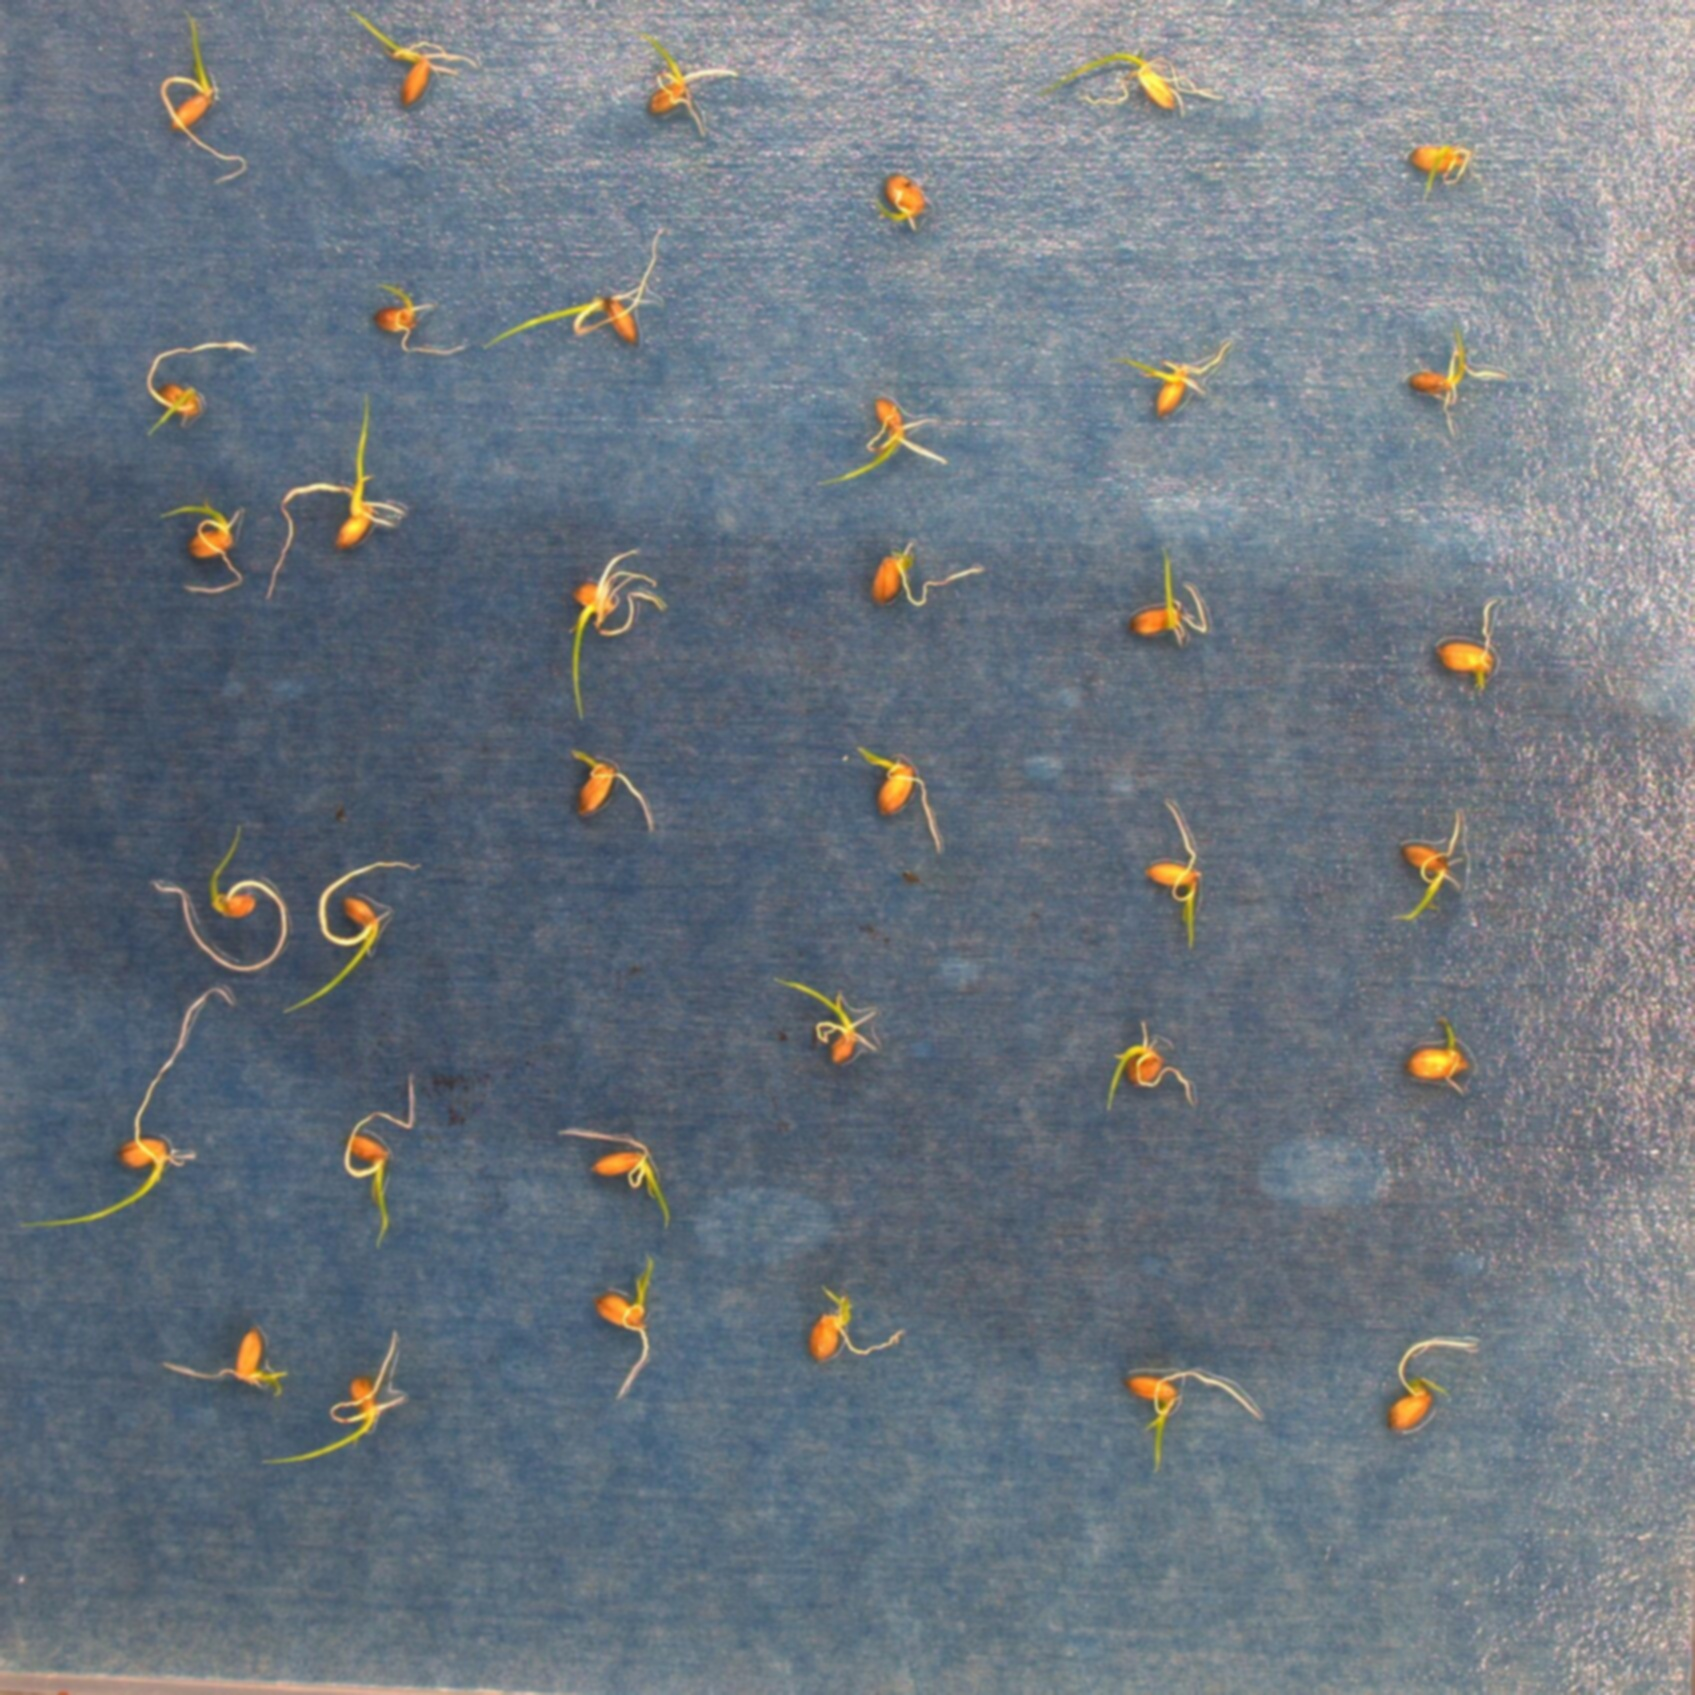not sprout: (874, 534, 983, 608), (1431, 601, 1498, 702)
sprout: (20, 986, 236, 1231), (262, 394, 407, 601), (484, 231, 658, 359), (279, 858, 416, 1018), (149, 826, 289, 976), (255, 1329, 405, 1467), (567, 549, 671, 723), (147, 20, 247, 189), (1038, 50, 1229, 129), (1119, 1367, 1262, 1471), (341, 1073, 414, 1251), (352, 12, 483, 112), (1104, 334, 1246, 424), (816, 397, 948, 492), (556, 1130, 675, 1234), (641, 33, 740, 144), (1406, 328, 1510, 433), (157, 1322, 293, 1402), (771, 973, 886, 1063), (147, 343, 253, 438), (855, 744, 944, 851), (1388, 813, 1467, 927), (1383, 1333, 1475, 1430), (1144, 795, 1198, 955), (366, 276, 473, 354), (563, 747, 653, 838), (594, 1257, 650, 1405), (1128, 548, 1212, 646), (806, 1284, 906, 1364), (161, 501, 245, 596), (1108, 1024, 1191, 1114), (1405, 1014, 1468, 1107), (1403, 137, 1468, 199), (869, 169, 931, 231)
